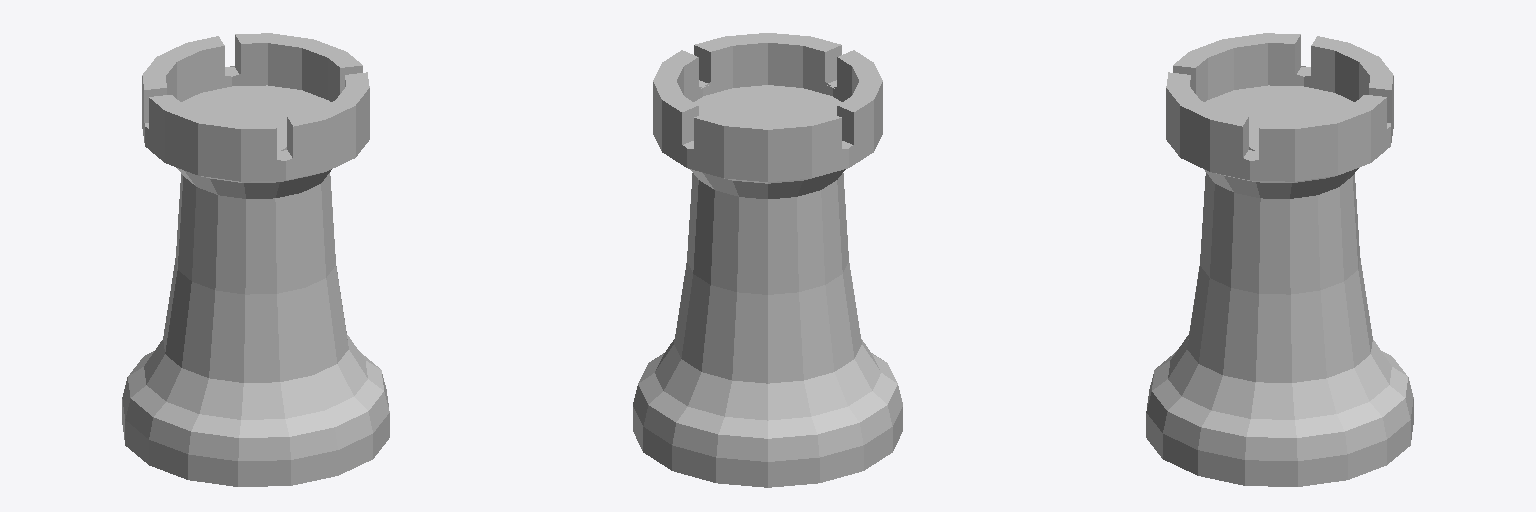
Rendered from rook.obj.
The picture shows the model from 3 angles: view 1: azimuth 30°, elevation 25°; view 2: azimuth 150°, elevation 25°; view 3: azimuth 270°, elevation 25°; orthographic projection.
Visible parts, largest first — view 1: Rook_Cylinder.002; view 2: Rook_Cylinder.002; view 3: Rook_Cylinder.002.
Part boxes in pixels (x1,y1,x2,y2): Rook_Cylinder.002: (122,33,389,486); Rook_Cylinder.002: (633,33,902,487); Rook_Cylinder.002: (1146,33,1413,486).
Size of the model in its own units: 2.76 by 3.98 by 2.76.